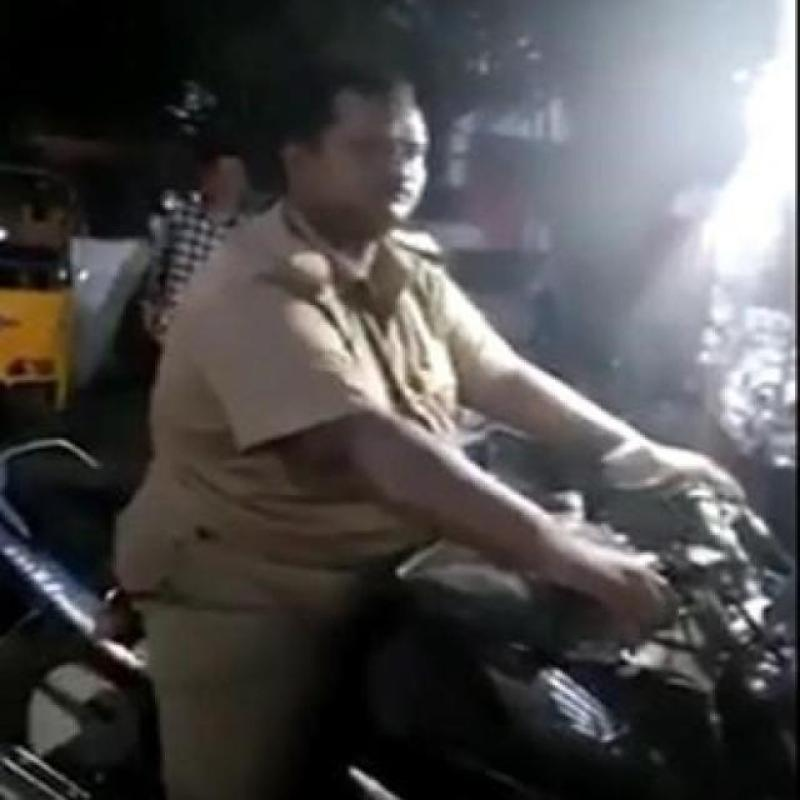nohelmet: (244, 56, 474, 240)
